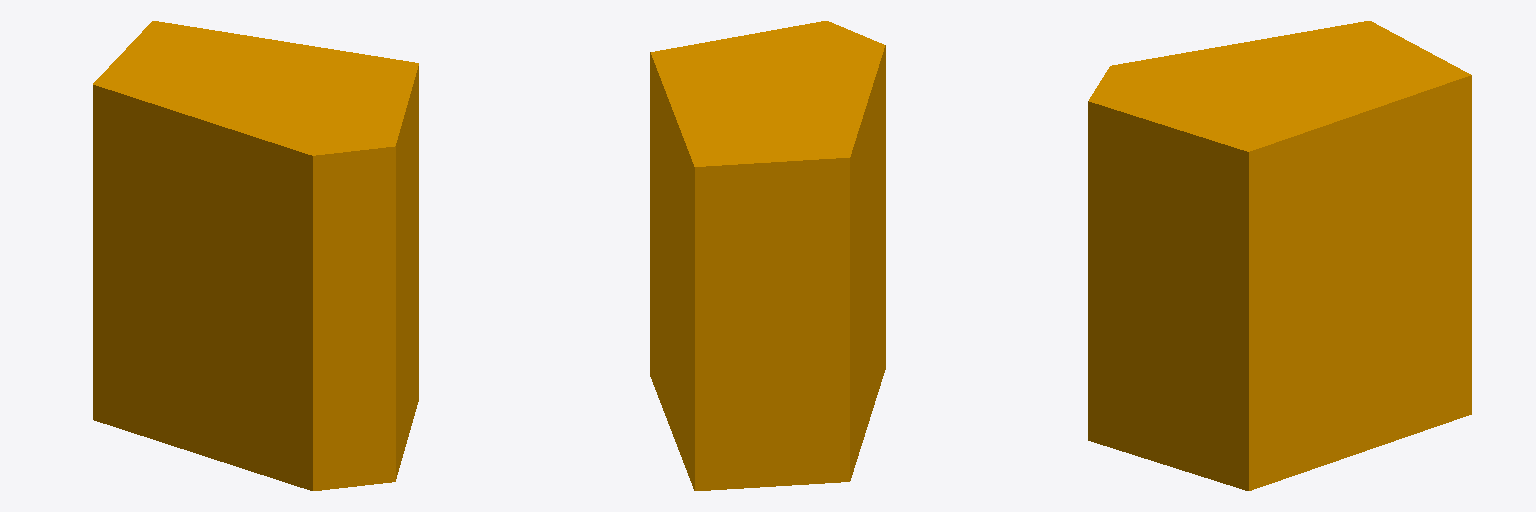
robot.urdf — object:
<?xml version="1.0"?>
<robot name="object">
  <link name="object">
    <visual>
      <origin xyz="0 0 0"/>
      <geometry>
        <mesh filename="meshes/generated/col_109.obj" scale="0.03 0.03 0.03"/>
      </geometry>
    </visual>
    <collision>
      <origin xyz="0 0 0"/>
      <geometry>
        <mesh filename="meshes/generated/col_109.obj" scale="0.03 0.03 0.03"/>
      </geometry>
    </collision>
    <inertial>
      <density value="1000.0"/>
    </inertial>
  </link>
</robot>

--- Facts derived from the render (not from the file) ---
The picture shows the robot from 3 angles, left to right: view 1: azimuth 30°, elevation 25°; view 2: azimuth 150°, elevation 25°; view 3: azimuth 270°, elevation 25°; orthographic projection.
Model object with 1 links and 0 joints (none), rooted at object, posed all joints at 0.
Links seen in each view (by area): view 1: object; view 2: object; view 3: object.
Link boxes in pixels (<box>): object: <box>93,21,418,490</box>; object: <box>650,21,885,490</box>; object: <box>1088,21,1471,490</box>.
Bounding box of the posed robot: 0.0499 × 0.0615 × 0.06 m (x, y, z).
Meshes: 1 distinct files referenced, 1 mesh visuals loaded (1 OBJ).
